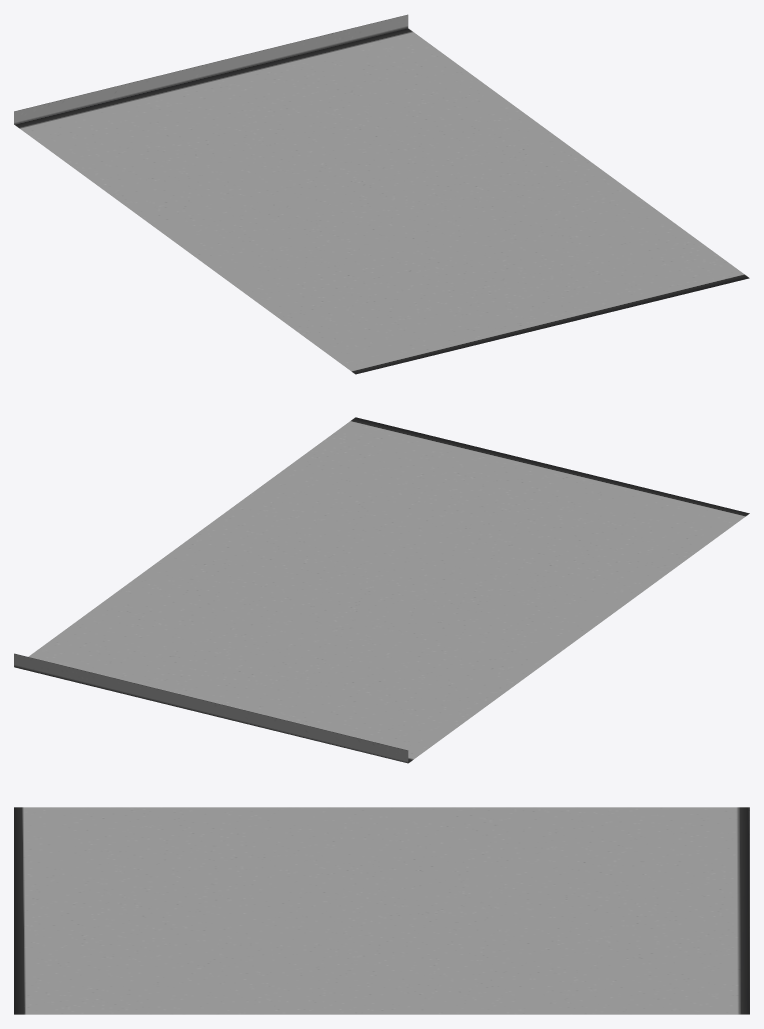
Rendered from ceiling-3.fbx.
The picture shows the model from 3 angles, top to bottom: view 1: azimuth 30°, elevation 25°; view 2: azimuth 150°, elevation 25°; view 3: azimuth 270°, elevation 25°; orthographic projection. The views are drawn at different scales.
Parts seen in each view (by area): view 1: pasted__pCube54; view 2: pasted__pCube54; view 3: pasted__pCube54.
Part boxes in pixels (box(x1,y1,x2,y2)): pasted__pCube54: box(14, 14, 749, 374); pasted__pCube54: box(14, 417, 749, 763); pasted__pCube54: box(14, 807, 749, 1014).
Bounding box in the file's own units: 3 × 0.1 × 4.5.
Materials: 1 (1 with a texture image).
